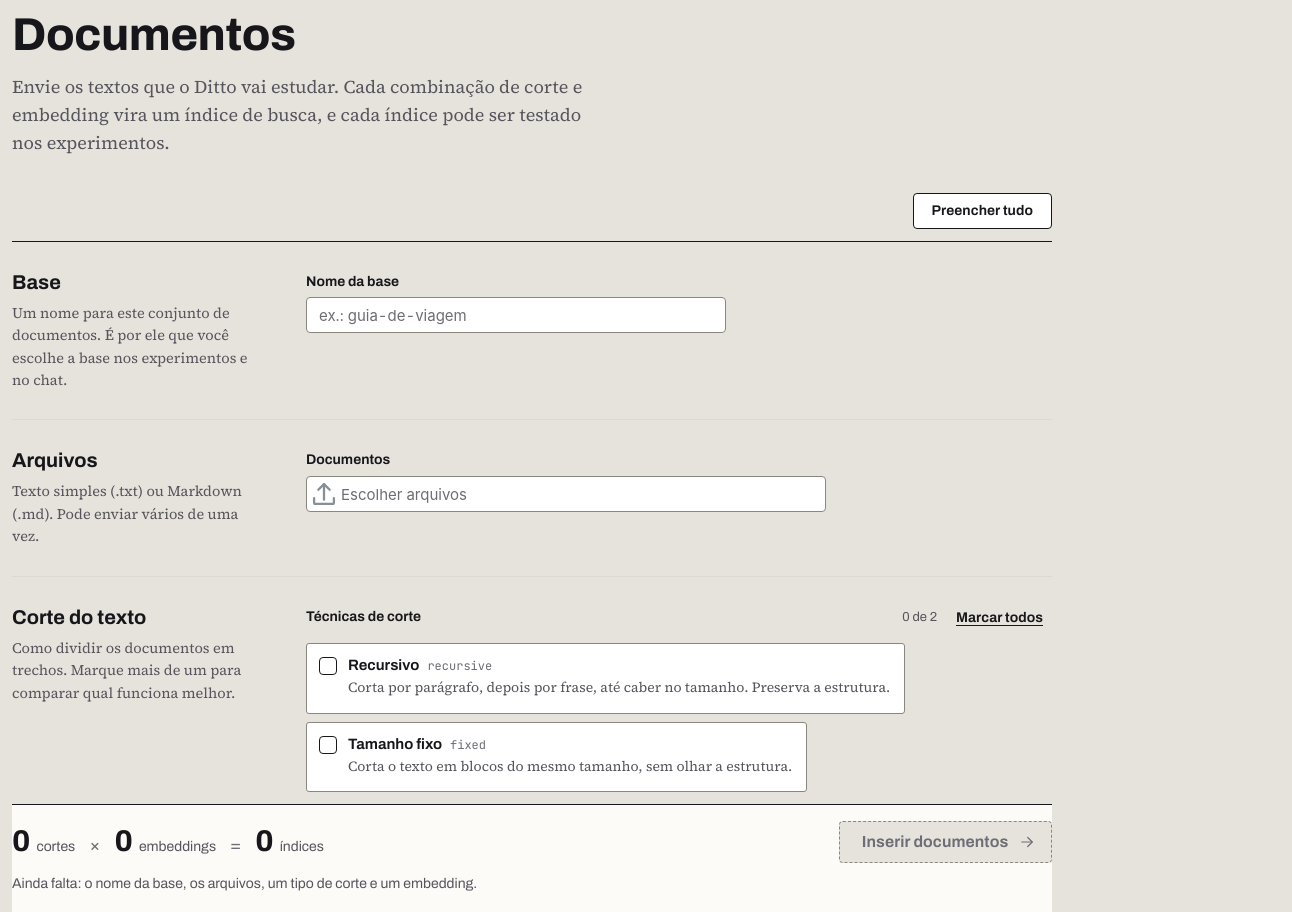
Test: IngestPage › fills all fields when 'Preencher tudo' is clicked and shows 'Limpar tudo'; clears on second click
The width and height of the screenshot is (1292, 912).
Click the button "Preencher tudo": (982, 211) [912, 193, 1052, 229]
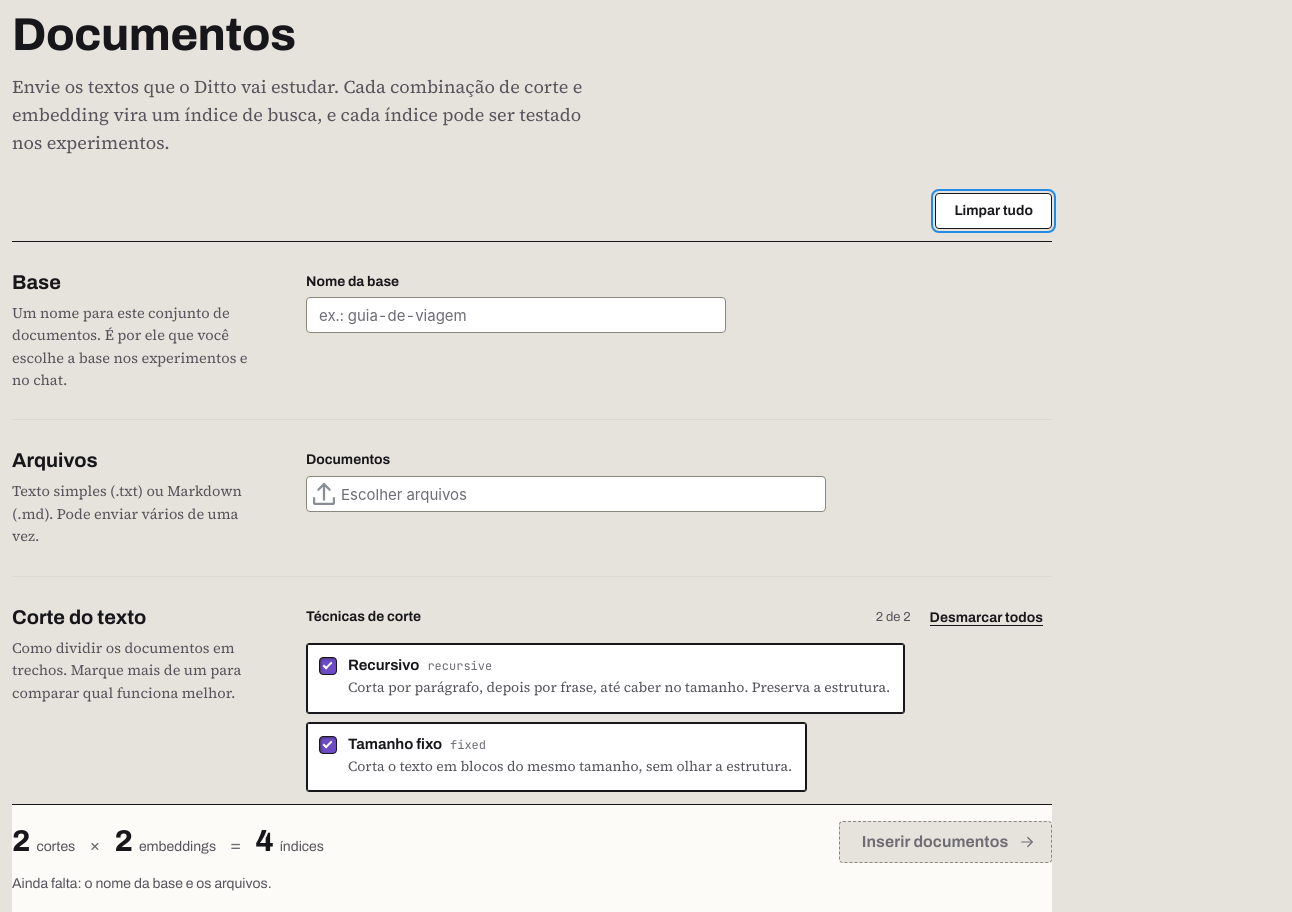
Check: the button "Limpar tudo" is shown
Click the button "Limpar tudo": (994, 211) [935, 193, 1052, 229]
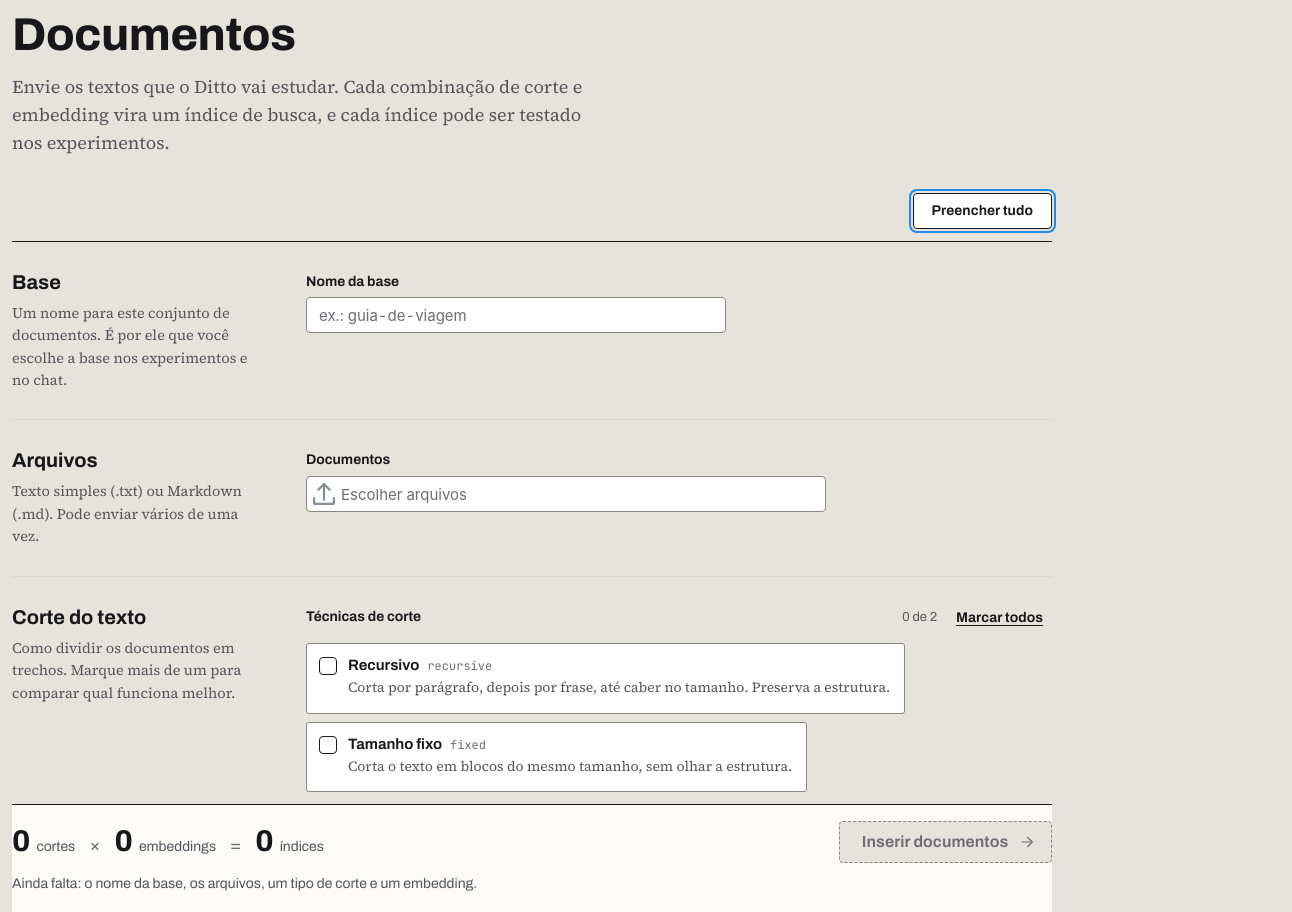
Check: the button "Preencher tudo" is shown, box [912, 193, 1052, 229]
